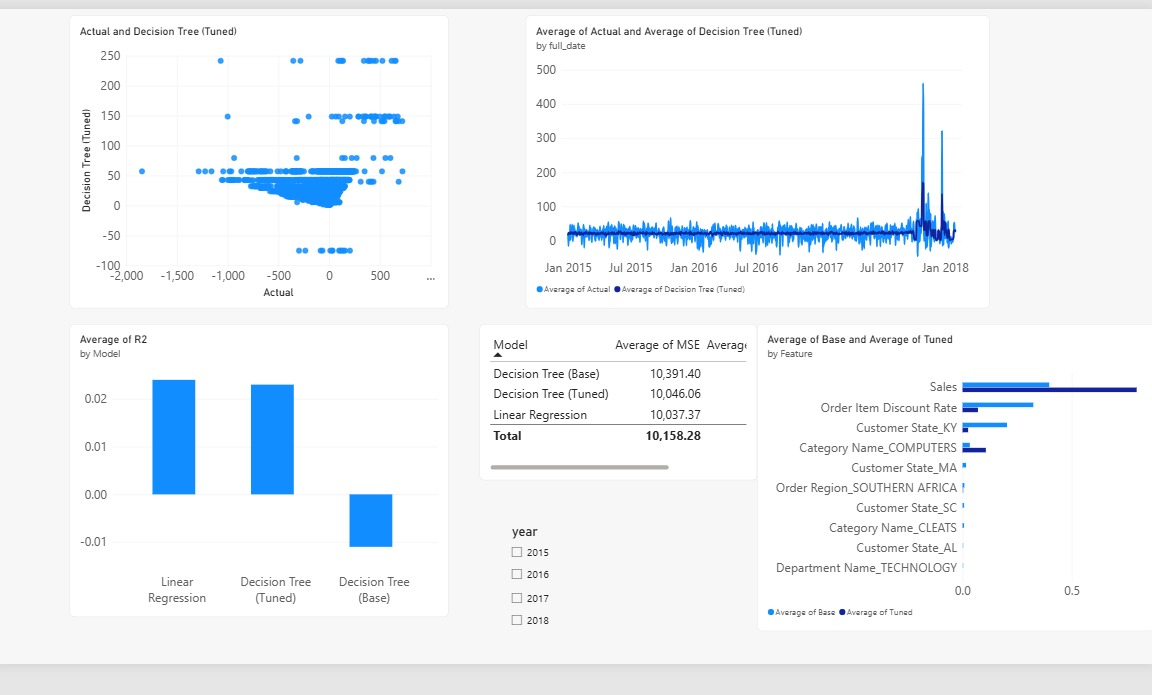

What the dashboard file says about the page in this screenshot:
{"tool":"powerbi","page":{"name":"Modeling BPD","canvas":[1920,1080],"ordinal":7},"visuals":[{"type":"scatterChart","fields":{"X":["bpo_predictions.Actual"],"Y":["bpo_predictions.Decision Tree (Tuned)"]},"box":[127.1,10.9,624.6,483],"z":0},{"type":"lineChart","fields":{"Category":["dim_date.full_date"],"Y":["Avg(bpo_predictions.Actual)","Avg(bpo_predictions.Decision Tree (Tuned))"]},"box":[878.8,10.9,764.4,483],"z":1000},{"type":"clusteredColumnChart","fields":{"Category":["bpo_comparison.Model"],"Y":["Avg(bpo_comparison.R2)"]},"box":[127.1,519.3,625,483],"z":2000},{"type":"tableEx","fields":{"Values":["bpo_comparison.Model","Avg(bpo_comparison.MSE)","Avg(bpo_comparison.MAE)","Sum(bpo_comparison.R2)"]},"box":[804.4,519.3,457.6,257.8],"z":3000},{"type":"clusteredBarChart","fields":{"Category":["bpo_importance.Feature"],"Y":["Avg(bpo_importance.Base)","Avg(bpo_importance.Tuned)"]},"box":[1261.9,519.3,657.3,506.6],"z":4000},{"type":"slicer","fields":{"Values":["dim_date.year"]},"box":[848,848,227,203.4],"z":5000}]}

Visuals, with their boxes on the page's 1920x1080 design canvas (x1, y1, x2, y2). These are canvas units, not pixel positions in the 1152x695 screenshot, which may show the page scaled, cropped or inside an application window:
scatterChart - bpo_predictions.Actual x bpo_predictions.Decision Tree (Tuned): <bbox>127, 11, 752, 494</bbox>
lineChart - dim_date.full_date x Avg(bpo_predictions.Actual): <bbox>879, 11, 1643, 494</bbox>
clusteredColumnChart - bpo_comparison.Model x Avg(bpo_comparison.R2): <bbox>127, 519, 752, 1002</bbox>
tableEx - bpo_comparison.Model x Avg(bpo_comparison.MSE): <bbox>804, 519, 1262, 777</bbox>
clusteredBarChart - bpo_importance.Feature x Avg(bpo_importance.Base): <bbox>1262, 519, 1919, 1026</bbox>
slicer - dim_date.year: <bbox>848, 848, 1075, 1051</bbox>
